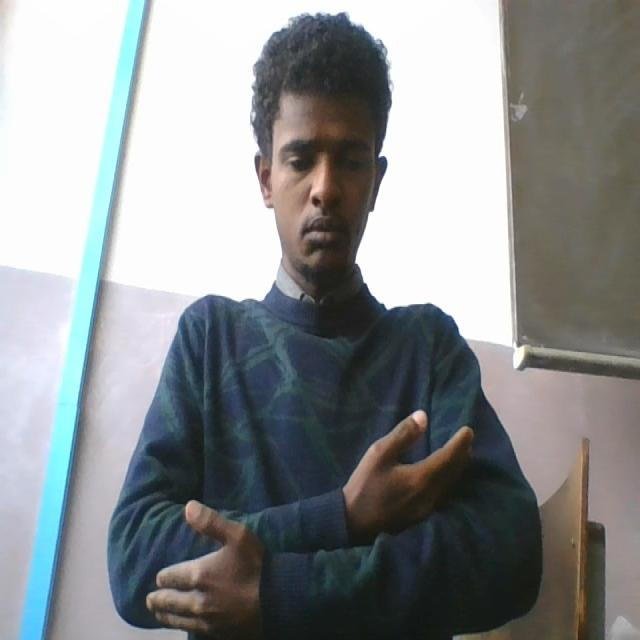lij: (146, 402, 481, 640)
